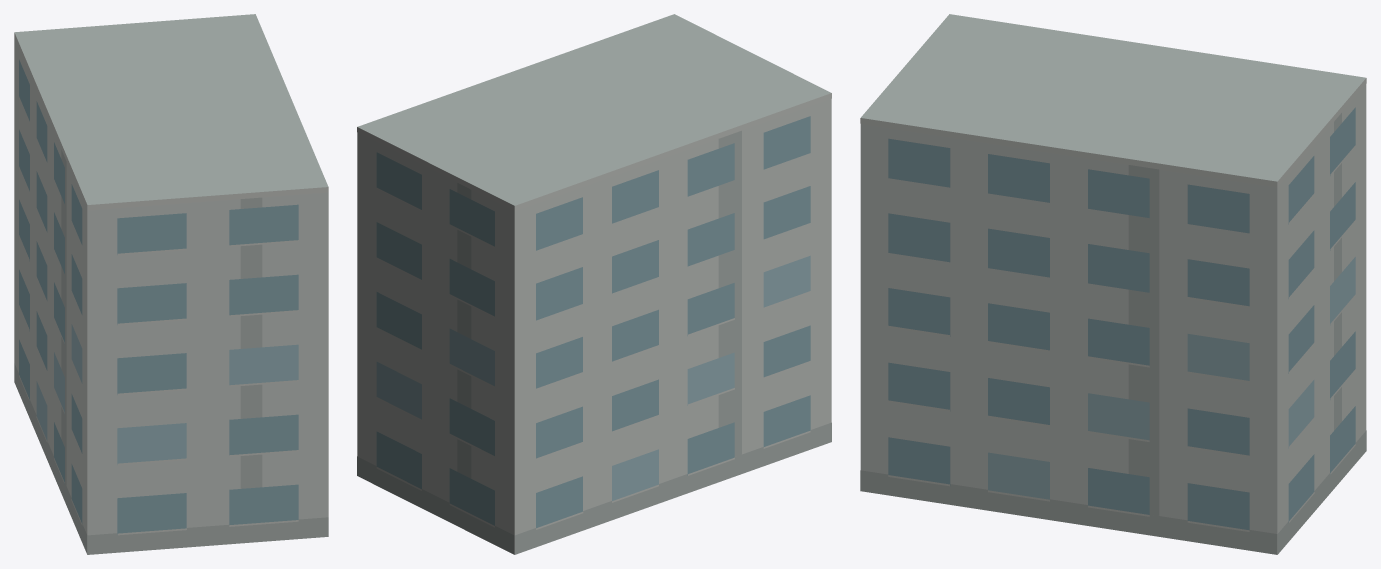
The model's file is residential-0ce06f0c-3201-463c-9fab-40960f50b1f8.glb.
3 views of the same model, side by side, from view 1: azimuth 30°, elevation 25°; view 2: azimuth 150°, elevation 25°; view 3: azimuth 270°, elevation 25° (orthographic). The views are drawn at different scales.
Visible parts, largest first — view 1: residential-0ce06f0c-3201-463c-9fab-40960f50b1f8.tmp; view 2: residential-0ce06f0c-3201-463c-9fab-40960f50b1f8.tmp; view 3: residential-0ce06f0c-3201-463c-9fab-40960f50b1f8.tmp.
Part boxes in pixels (<box>): residential-0ce06f0c-3201-463c-9fab-40960f50b1f8.tmp: <box>14,14,328,554</box>; residential-0ce06f0c-3201-463c-9fab-40960f50b1f8.tmp: <box>357,14,831,554</box>; residential-0ce06f0c-3201-463c-9fab-40960f50b1f8.tmp: <box>860,14,1366,554</box>.
Bounding box in the file's own units: 14.7 × 15.25 × 18.75.
